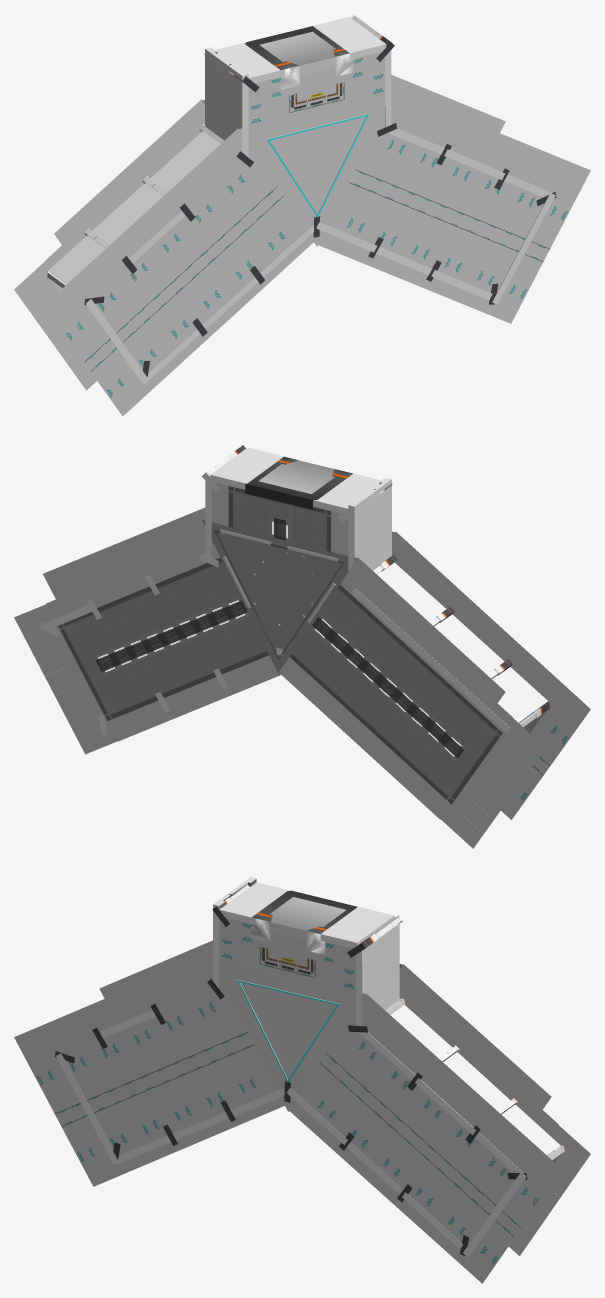
Rendered from JOINED_ENV_Room1Layout (fixed normals).fbx.
The picture shows the model from 3 angles, top to bottom: view 1: azimuth 30°, elevation 25°; view 2: azimuth 150°, elevation 25°; view 3: azimuth 330°, elevation 25°; orthographic projection.
Parts seen in each view (by area): view 1: Room1; view 2: Room1; view 3: Room1.
Boxes of the visible parts, bbox=[...] form: Room1: bbox=[14, 14, 590, 416]; Room1: bbox=[14, 445, 590, 848]; Room1: bbox=[14, 877, 590, 1283].
Bounding box in the file's own units: 12817 × 7011 × 1560.
20 materials, 17 textured.
